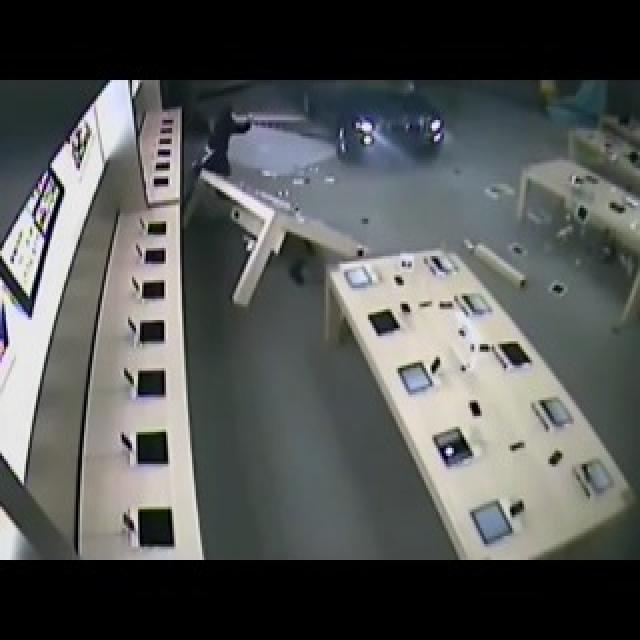thief: (196, 84, 249, 200)
